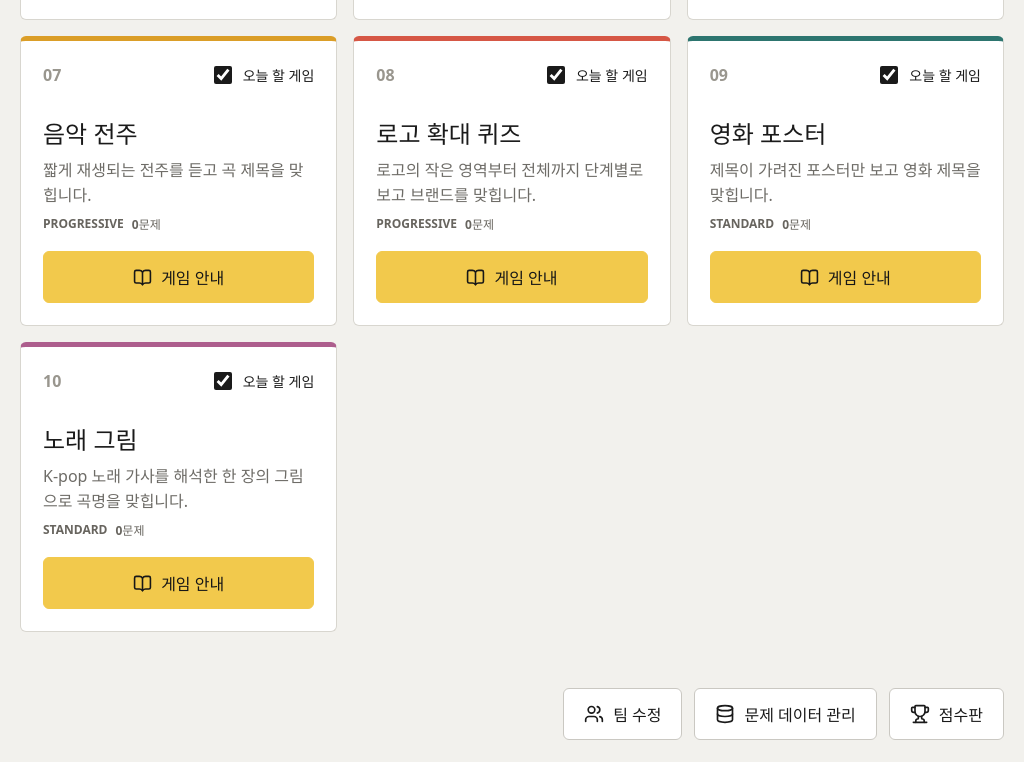
App › 게임 선택 화면에서 데이터 관리 페이지로 이동한다
(page scrolled)
Click the button "문제 데이터 관리" at {"x": 786, "y": 714}, box [694,688,877,740]
(page scrolled)
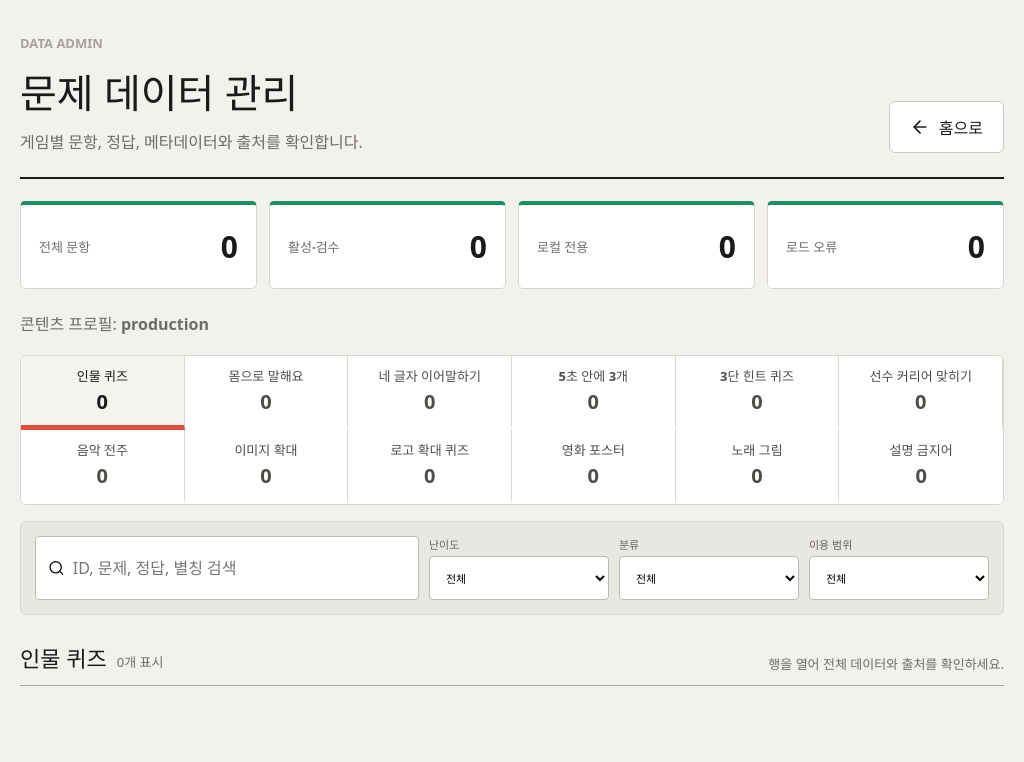
expect the heading "문제 데이터 관리" is shown: met, box [20,65,298,120]
